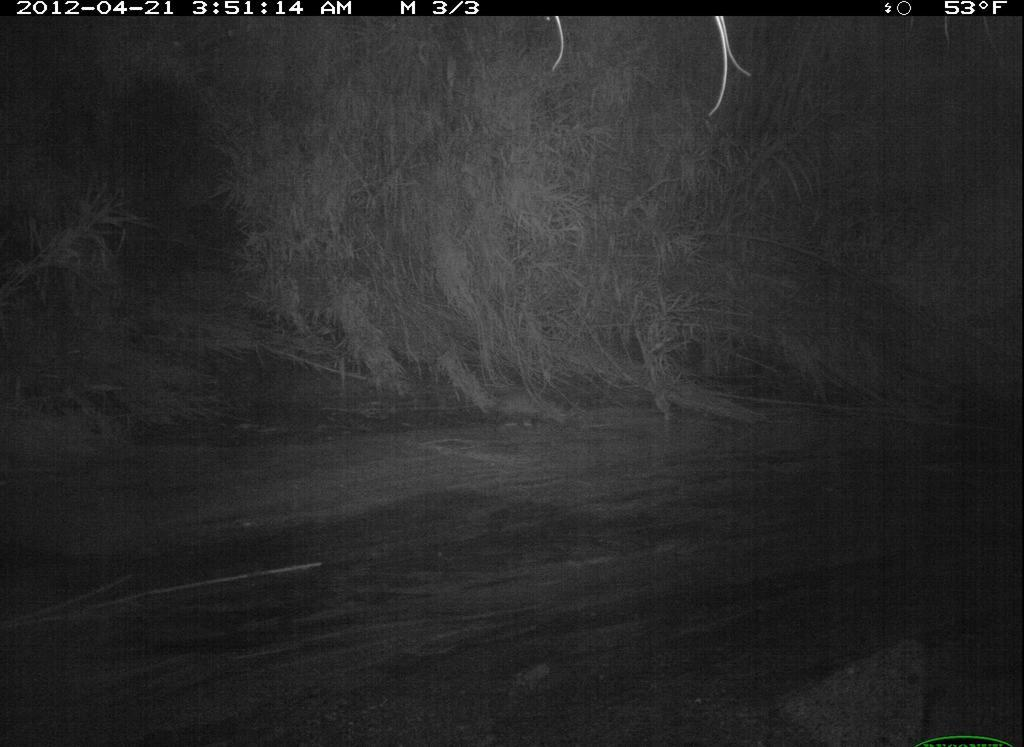opossum: (461, 381, 571, 442)
